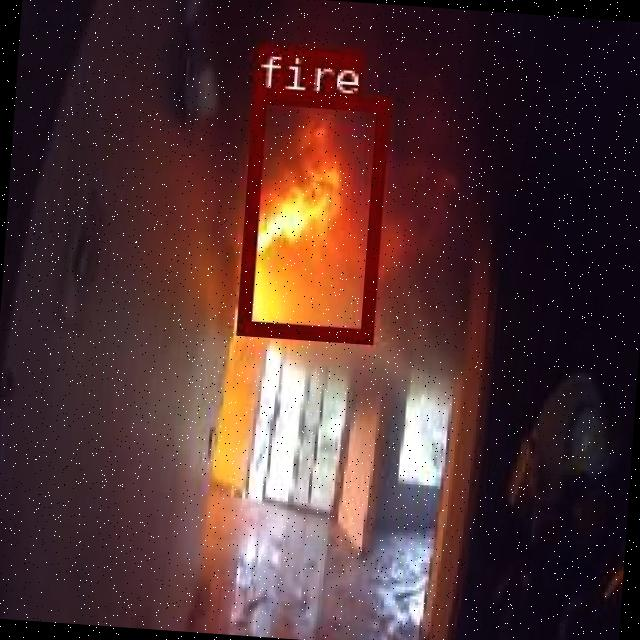fire: (234, 88, 384, 338)
